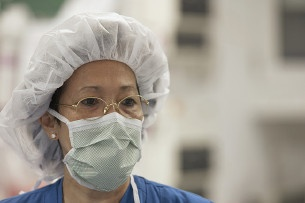Mask: (56, 83, 146, 173)
